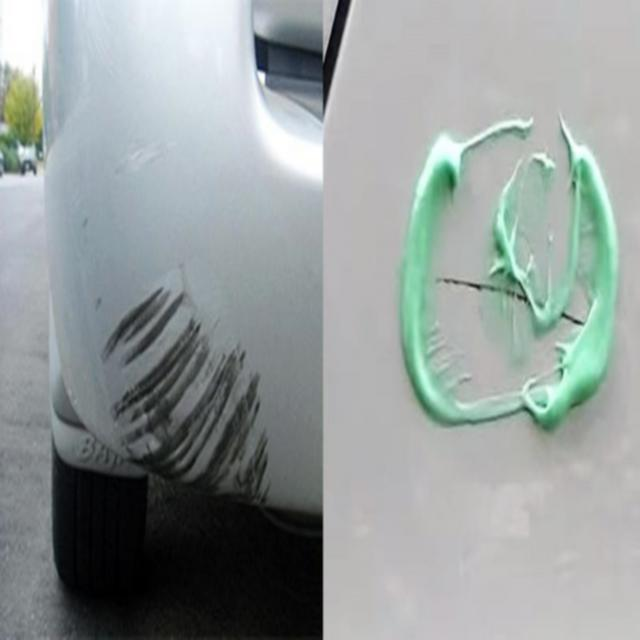rear-bumper-dent: (34, 6, 314, 550)
